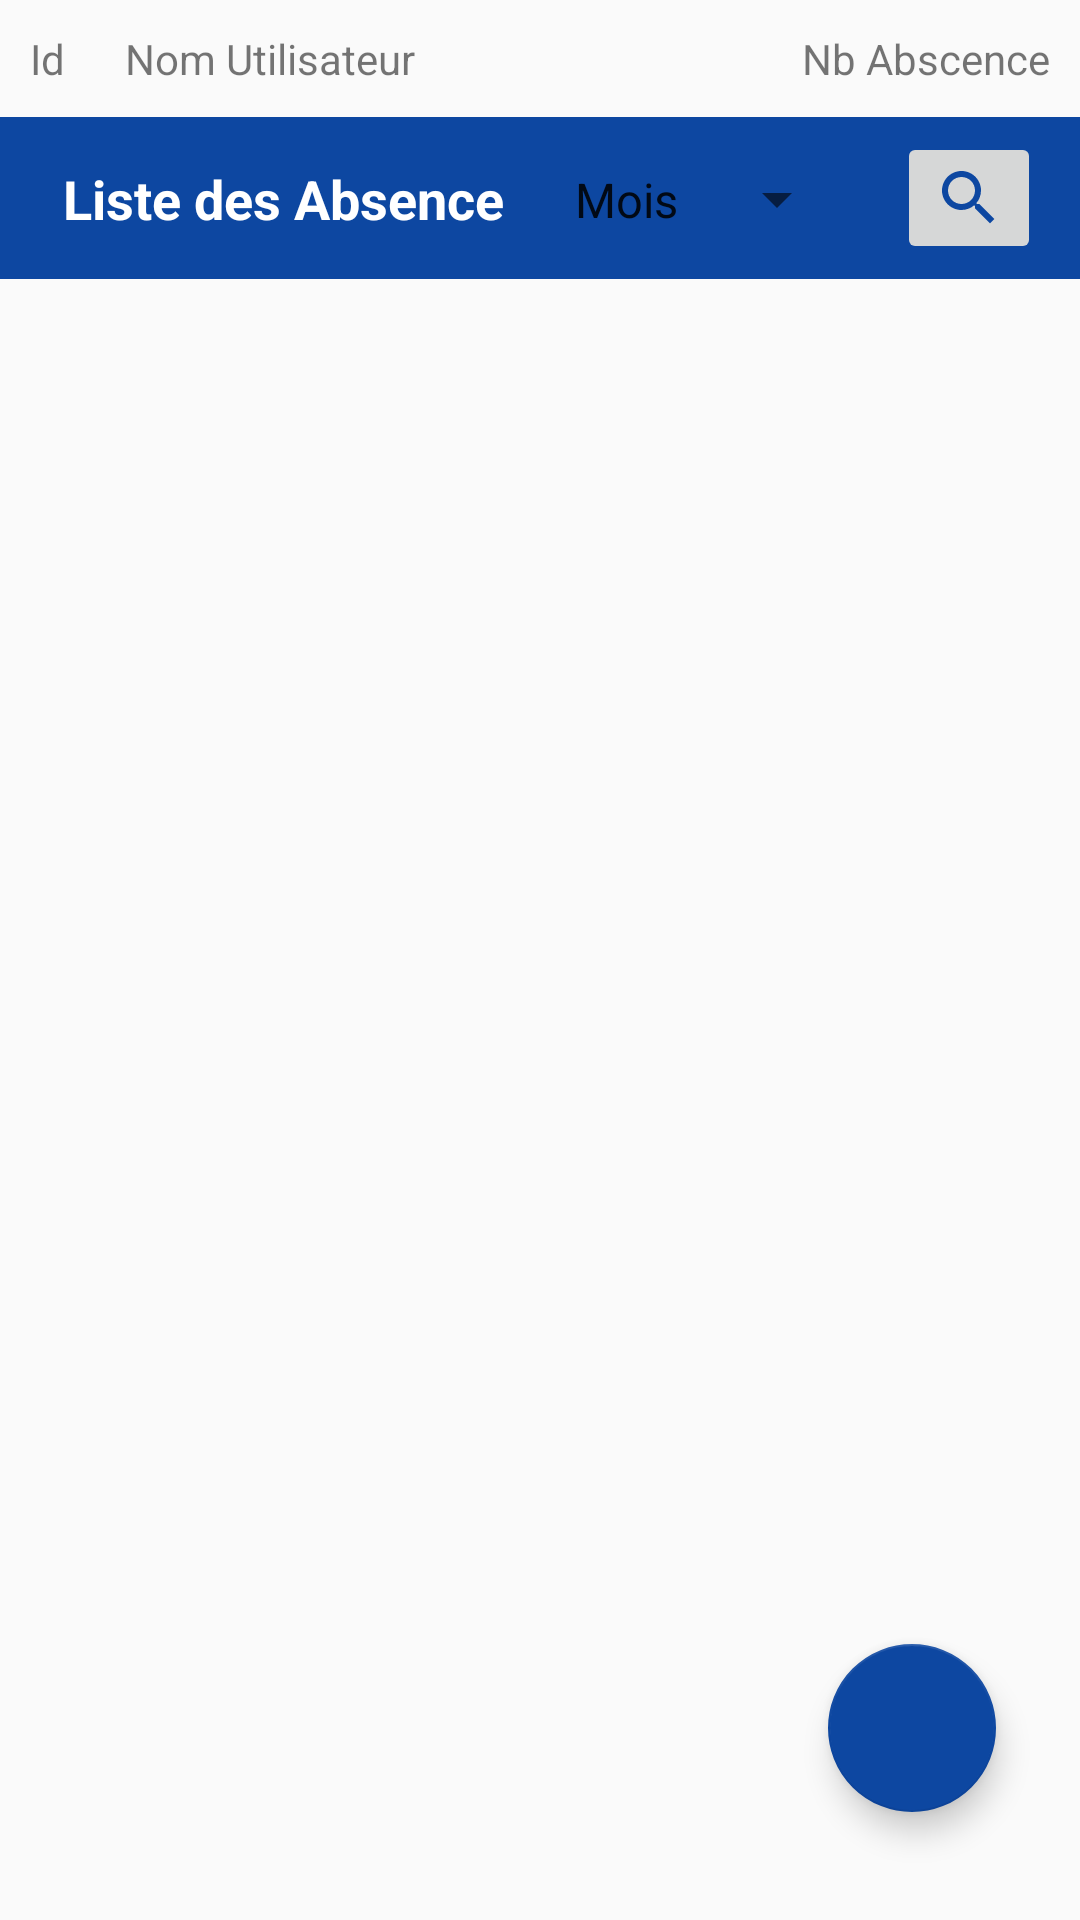

Where to tap for icons on this 1080px×1920px app screen, as (x,y):
search: (969,198)
